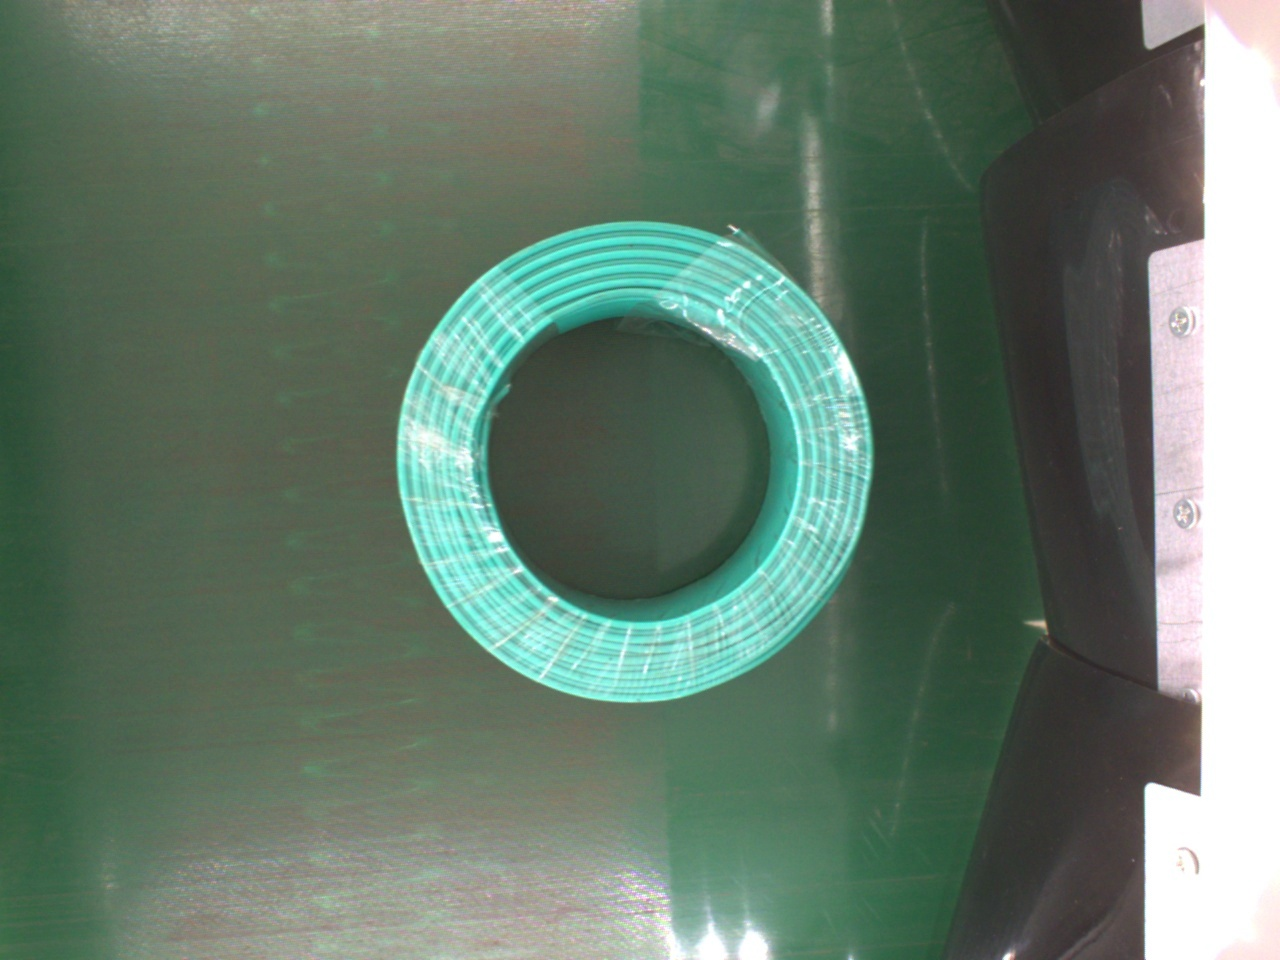green: (390, 216, 875, 706)
